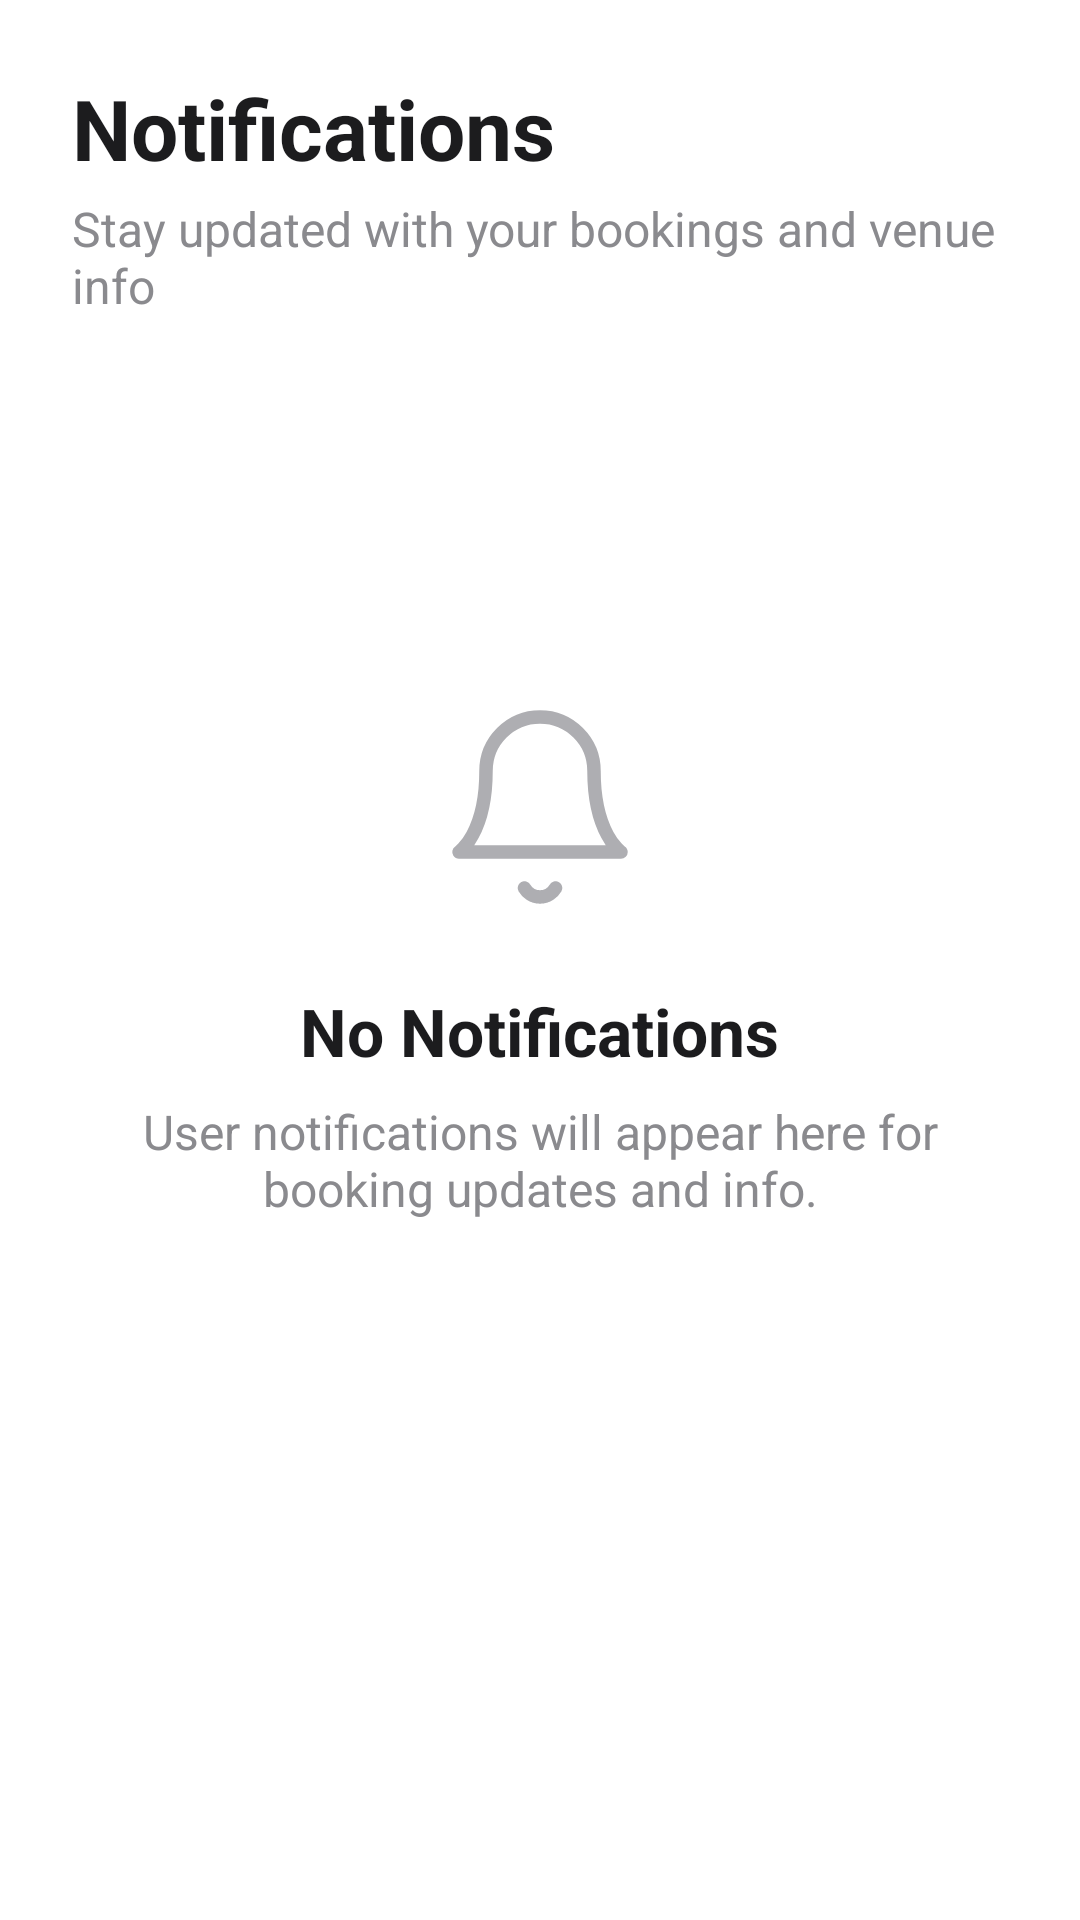

Where to tap for icons on this 1080px x 1920px app screen, as [x,y]:
Notification bell icon: [540,807]
